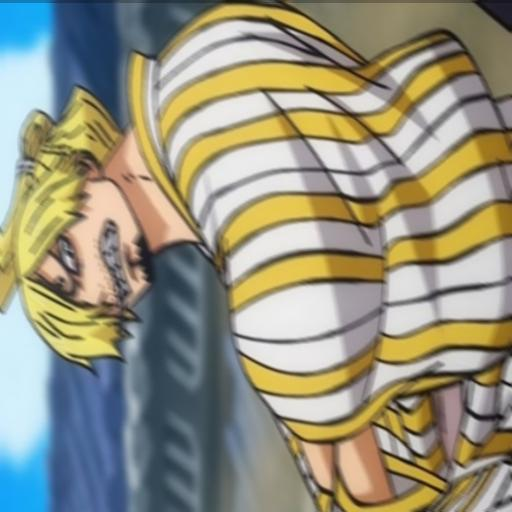sanji: (3, 0, 512, 502)
